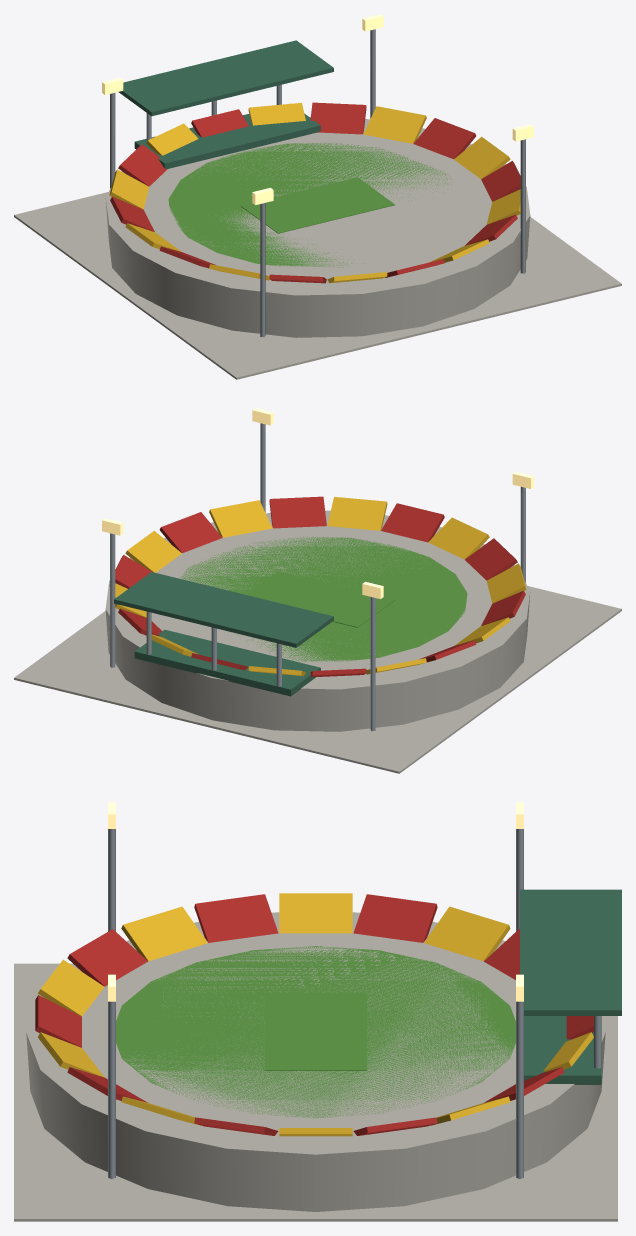
Rendered from building_stadium.glb.
The picture shows the model from 3 angles, top to bottom: view 1: azimuth 30°, elevation 25°; view 2: azimuth 150°, elevation 25°; view 3: azimuth 270°, elevation 25°; orthographic projection. The views are drawn at different scales.
Visible parts, largest first — view 1: building_stadium; view 2: building_stadium; view 3: building_stadium.
Part boxes in pixels (bbox=[...]): building_stadium: bbox=[14, 14, 621, 379]; building_stadium: bbox=[14, 408, 621, 773]; building_stadium: bbox=[14, 802, 621, 1221].
Bounding box in the file's own units: 2.96 × 1.08 × 2.98.
